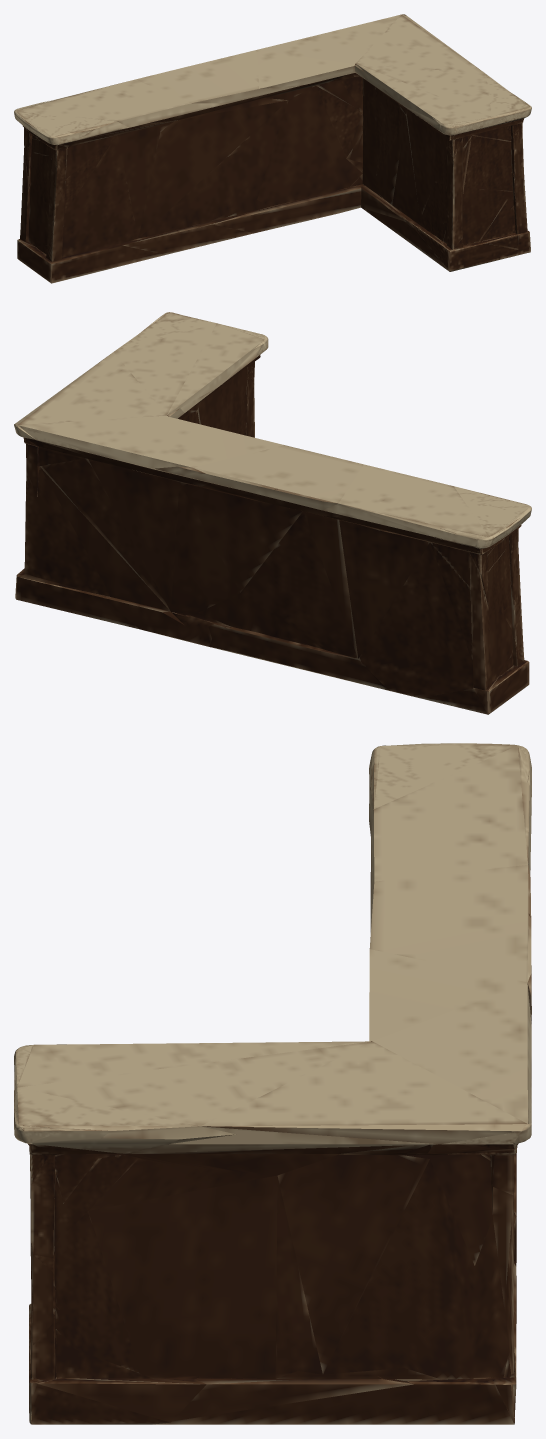
The model's file is desk.glb.
3 views of the same model, one above another, from view 1: azimuth 30°, elevation 25°; view 2: azimuth 150°, elevation 25°; view 3: azimuth 270°, elevation 25° (orthographic). The views are drawn at different scales.
Size of the model in its own units: 1.9 by 0.6793 by 1.08.
1 material, 1 textured.
